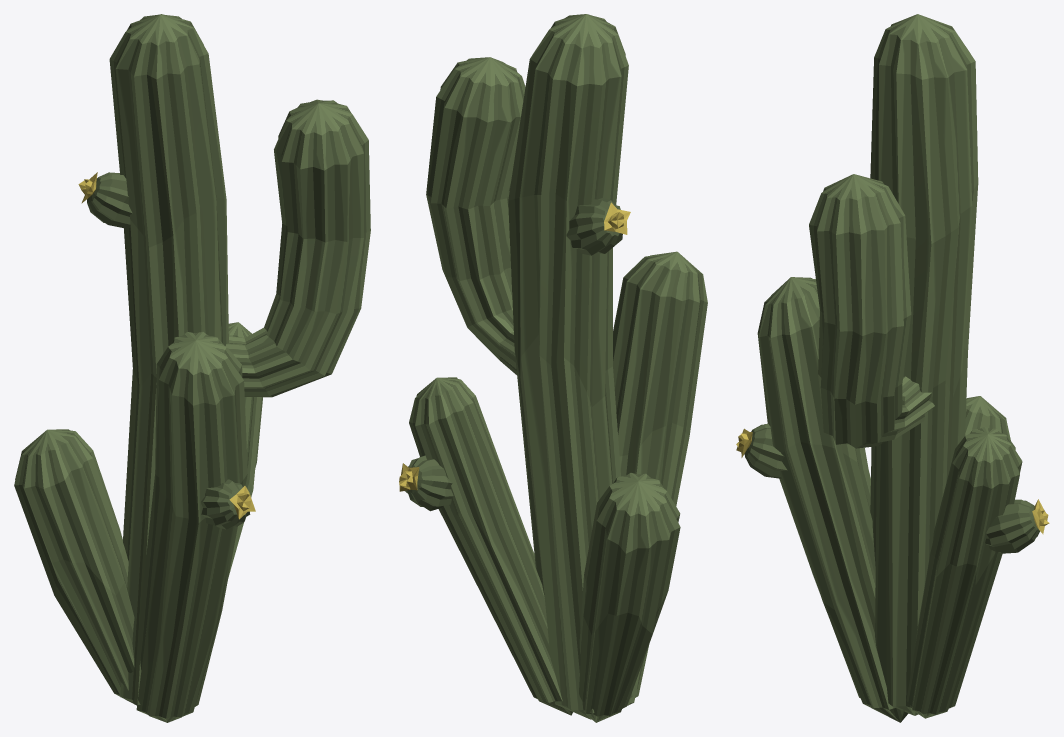
Rendered from SM_Env_Cactus_05.obj.
3 views of the same model, side by side, from view 1: azimuth 30°, elevation 25°; view 2: azimuth 150°, elevation 25°; view 3: azimuth 270°, elevation 25° (orthographic).
Parts seen in each view (by area): view 1: SM_Env_Cactus_05_0; view 2: SM_Env_Cactus_05_0; view 3: SM_Env_Cactus_05_0.
Boxes of the visible parts, <box> form: SM_Env_Cactus_05_0: <box>14,14,370,722</box>; SM_Env_Cactus_05_0: <box>399,14,707,722</box>; SM_Env_Cactus_05_0: <box>736,14,1049,722</box>.
Size of the model in its own units: 1.07 by 2.45 by 0.9821.
1 material, 1 textured.
